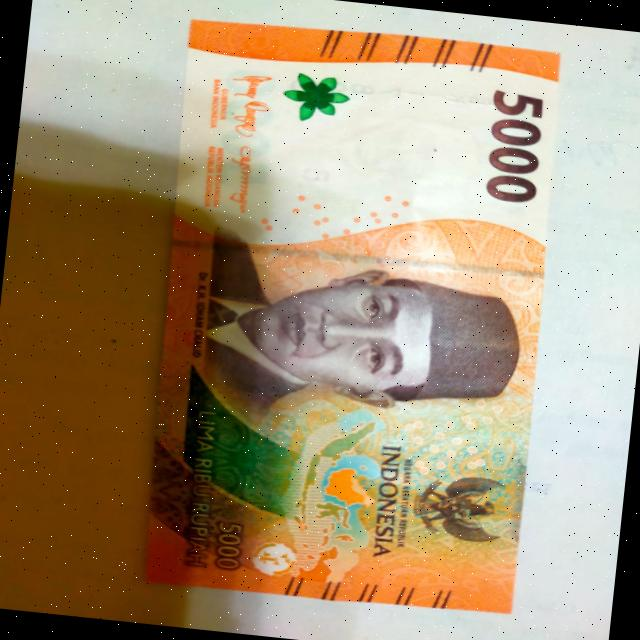5K: (110, 0, 597, 629)
